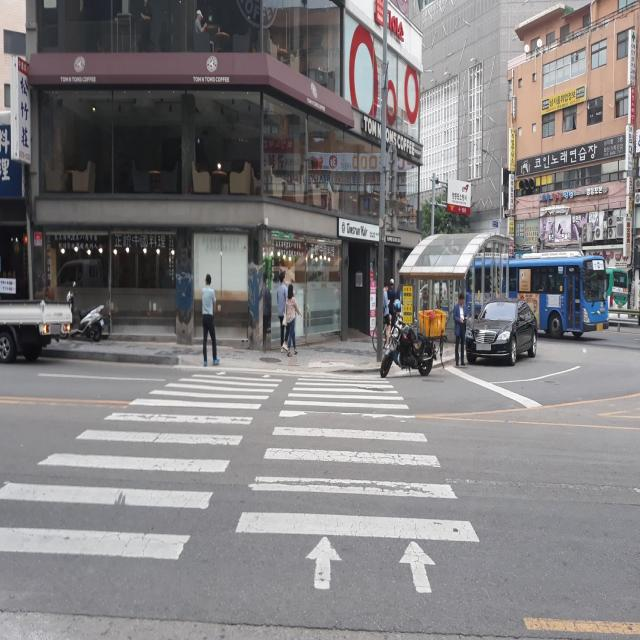횡단보도: (0, 372, 479, 594)
